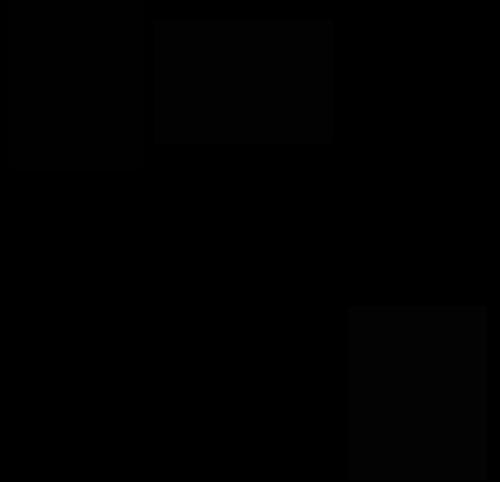cla2: (154, 20, 333, 143)
cls1: (10, 0, 142, 171)
css3: (348, 306, 487, 480)
las4: (34, 30, 48, 48)
